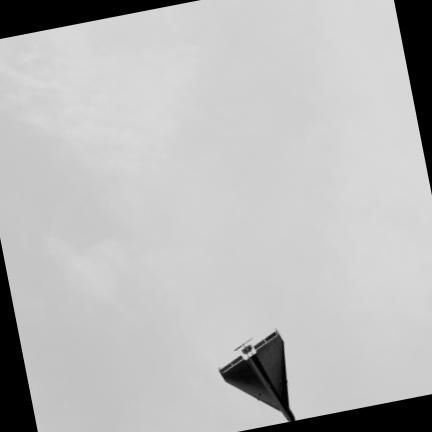Shahed: (217, 327, 297, 421)
